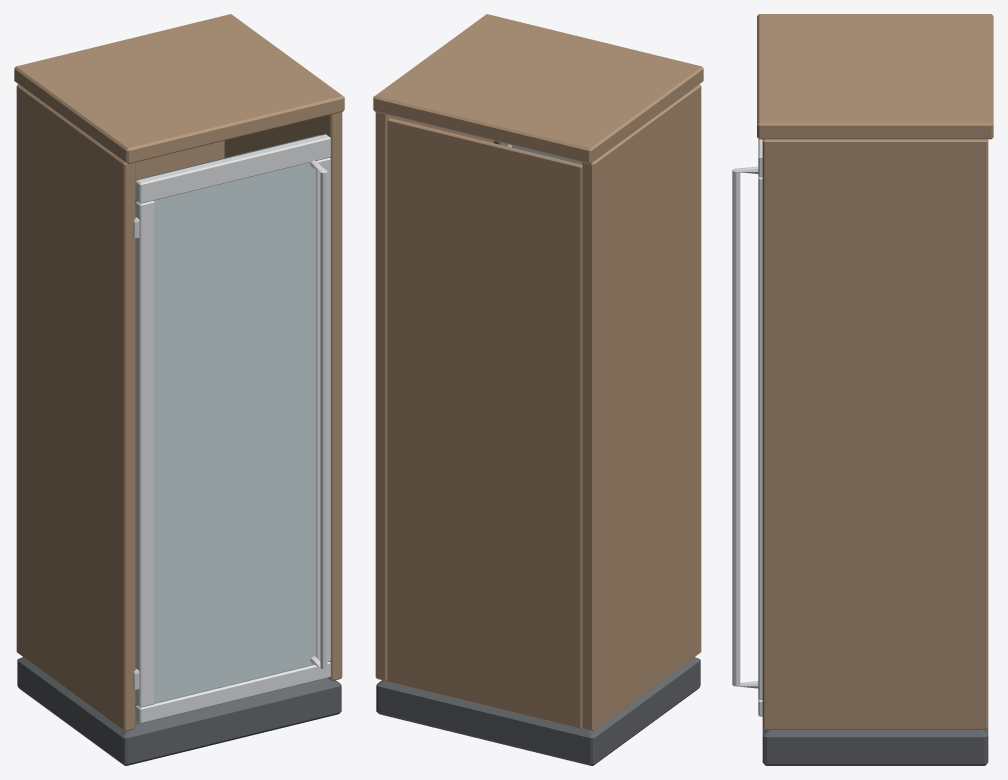
Rendered from restaurant-kitchen-and-dining-wine-display-cabinet-7f809593__16516.glb.
The picture shows the model from 3 angles, left to right: view 1: azimuth 30°, elevation 25°; view 2: azimuth 150°, elevation 25°; view 3: azimuth 270°, elevation 25°; orthographic projection. The views are drawn at different scales.
Parts seen in each view (by area): view 1: wine-display-cabinet, cabinet-door/glass, cabinet-door/metal; view 2: wine-display-cabinet; view 3: wine-display-cabinet, cabinet-door/metal.
Boxes of the visible parts, <box> form: wine-display-cabinet: <box>14,14,344,765</box>; cabinet-door/glass: <box>154,162,315,703</box>; cabinet-door/metal: <box>135,134,330,723</box>; wine-display-cabinet: <box>373,14,703,765</box>; wine-display-cabinet: <box>757,14,993,765</box>; cabinet-door/metal: <box>732,139,762,716</box>.
Bounding box in the file's own units: 0.72 × 1.95 × 0.7181.
